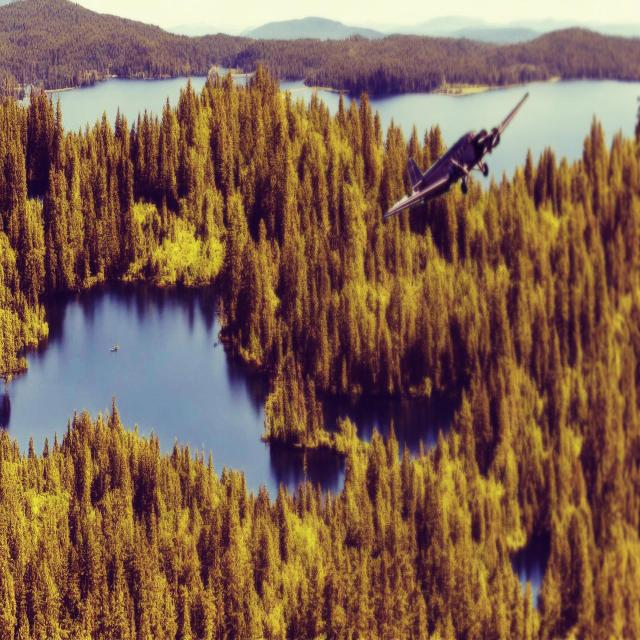airplane: (382, 90, 529, 222)
